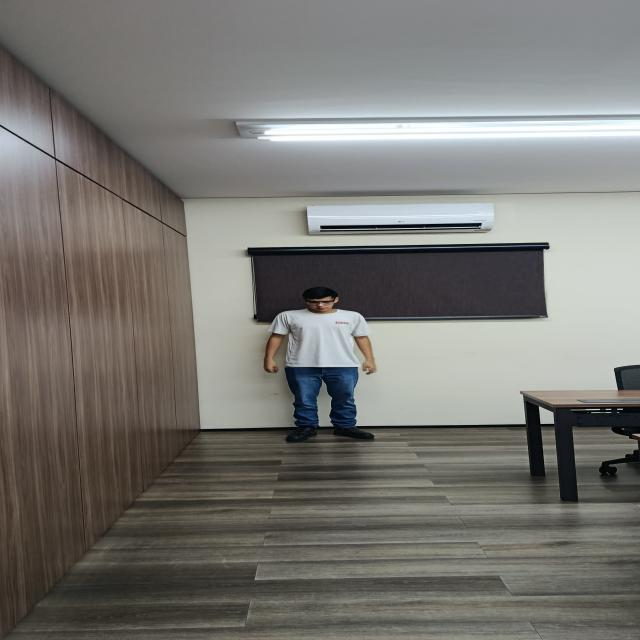oculos-epi: (306, 299, 335, 305)
